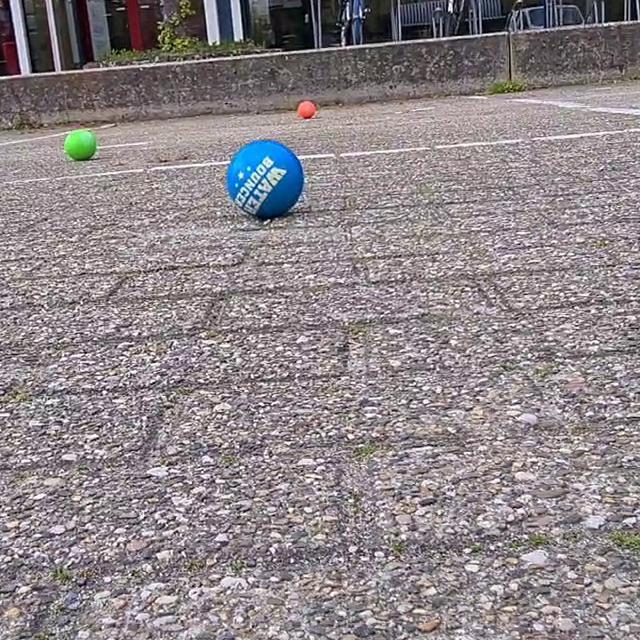ball: (62, 125, 96, 161), (296, 98, 318, 124)
